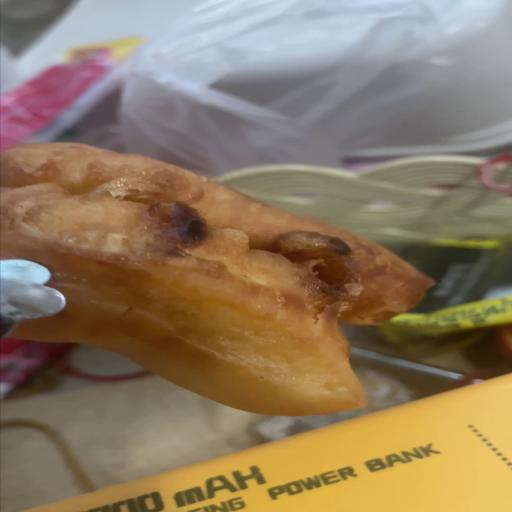street_burnt_defect: (1, 142, 433, 417)
